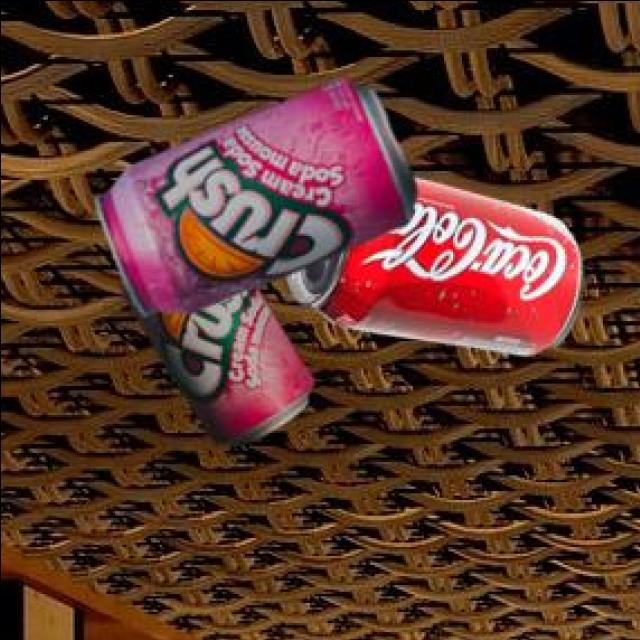logam: (91, 75, 413, 312), (283, 173, 578, 350), (119, 272, 310, 442)
